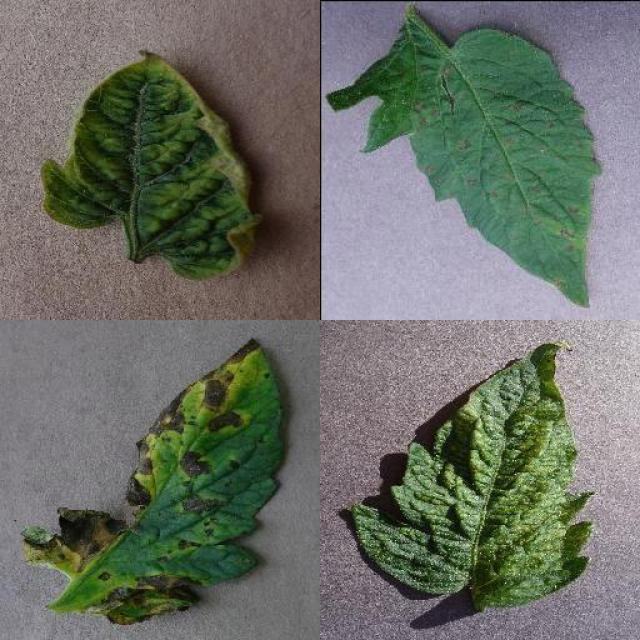Early Blight: (23, 339, 285, 626)
Septoria: (325, 28, 597, 310)
